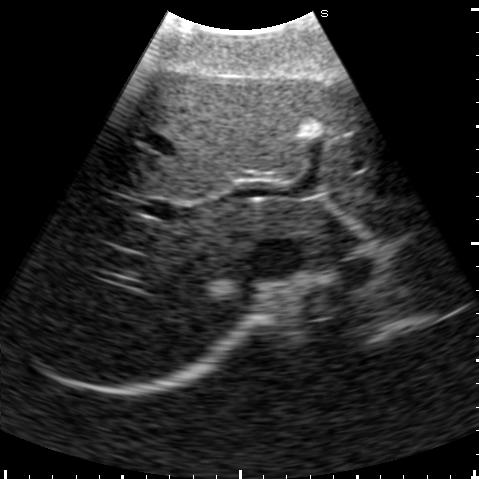IVC: (252, 240, 302, 280)
S1: (264, 202, 345, 263)
S2: (326, 193, 433, 239)
S3: (295, 75, 420, 202)
S4: (118, 73, 324, 200)
Tumor: (205, 280, 236, 298), (297, 118, 321, 139)
